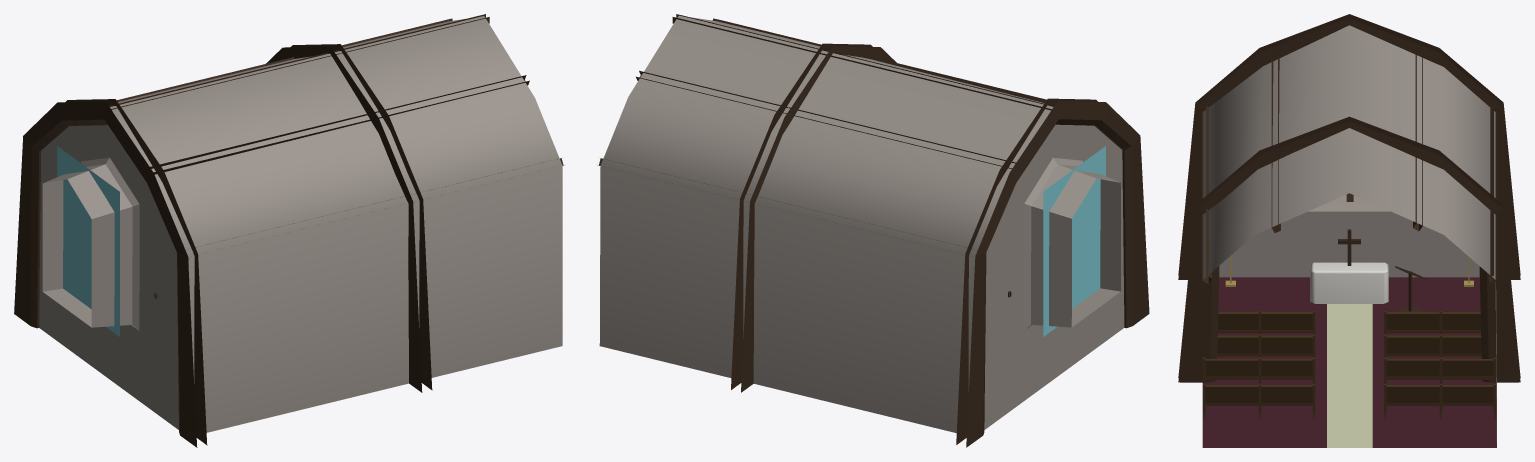
Rendered from Church.fbx.
3 renders of one model, left to right at view 1: azimuth 30°, elevation 25°; view 2: azimuth 150°, elevation 25°; view 3: azimuth 270°, elevation 25°, orthographic. The views are drawn at different scales.
Visible parts, largest first — view 1: polySurface21; view 2: polySurface21; view 3: polySurface21.
Boxes of the visible parts, x1=… form: polySurface21: x1=14, y1=14, x2=564, y2=447; polySurface21: x1=597, y1=14, x2=1149, y2=447; polySurface21: x1=1178, y1=14, x2=1520, y2=447.
Bounding box in the file's own units: 496 × 317 × 373.
